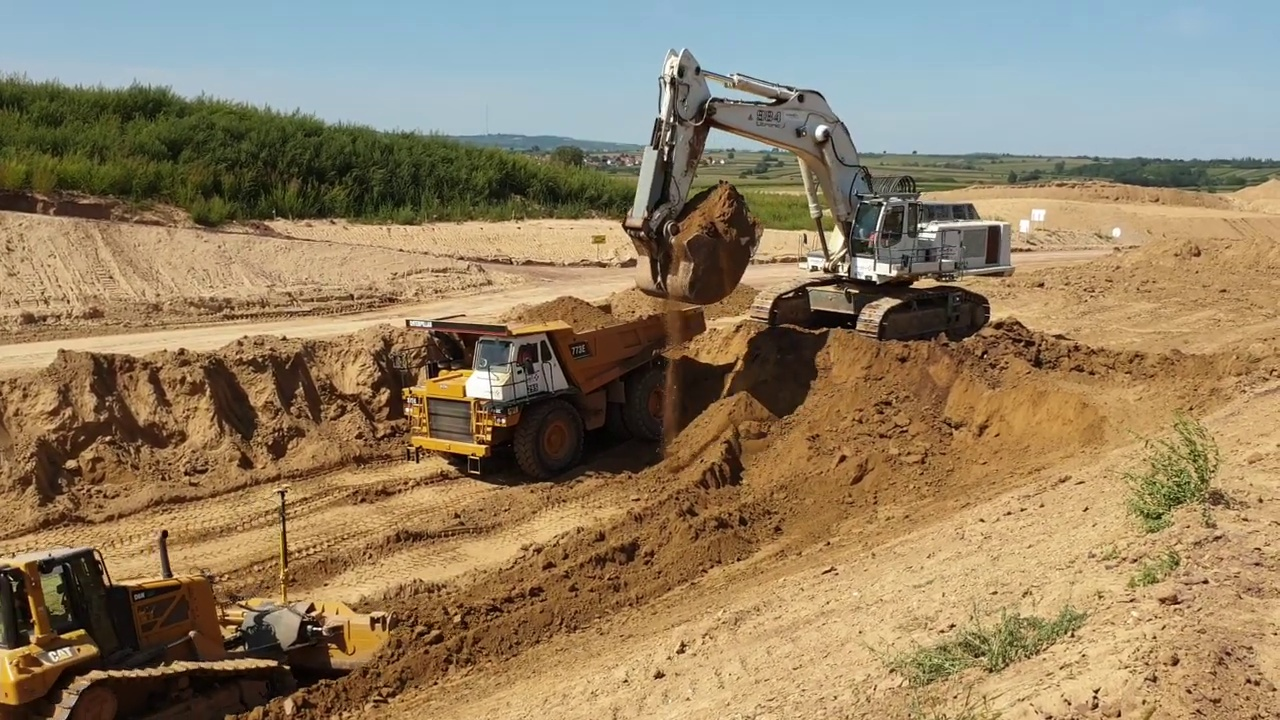bulldozer: (4, 485, 391, 720)
excavator: (622, 44, 1021, 345)
truck: (395, 302, 712, 488)
